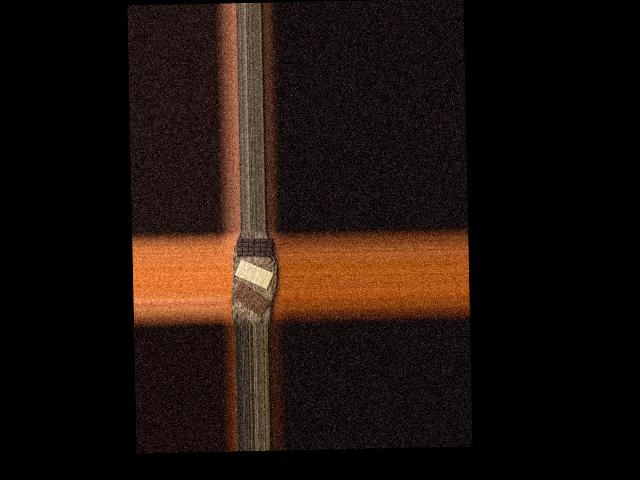chocolate: (236, 237, 273, 256)
